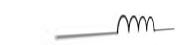inductor: (110, 8, 160, 36)
